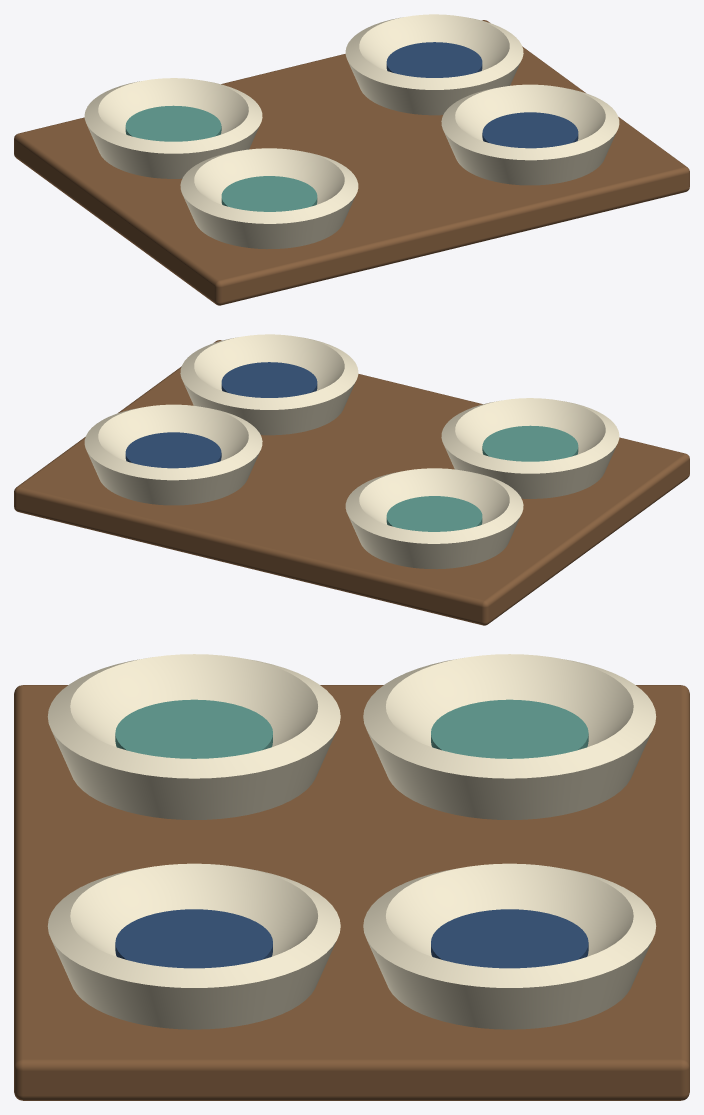
The model's file is fantasy-cartographers-map-printing-guild-pigment-shell-ba3de739__32260.glb.
3 renders of one model, top to bottom at view 1: azimuth 30°, elevation 25°; view 2: azimuth 150°, elevation 25°; view 3: azimuth 270°, elevation 25°, orthographic. The views are drawn at different scales.
Visible parts, largest first — view 1: pigment-shell-palette; view 2: pigment-shell-palette; view 3: pigment-shell-palette.
Part boxes in pixels (x1,y1,x2,y2): pigment-shell-palette: [14, 14, 689, 305]; pigment-shell-palette: [14, 334, 689, 625]; pigment-shell-palette: [14, 654, 689, 1100].
Bounding box in the file's own units: 0.4 × 0.05 × 0.3.
